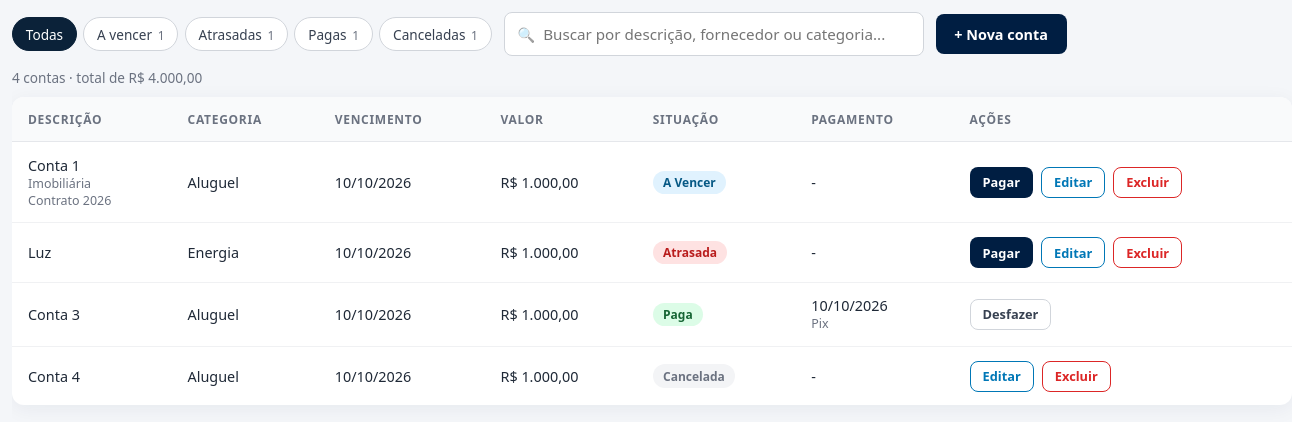
Test: contas a pagar › lista, filtra e busca
Expected: the text "Imobiliária" is shown, [28, 175, 91, 192]
Expected: the text "4 contas · total de R$ 4.000,00" is shown, [12, 68, 202, 87]
Click the button "Atrasadas1". click: [236, 34]
box: [185, 17, 288, 51]
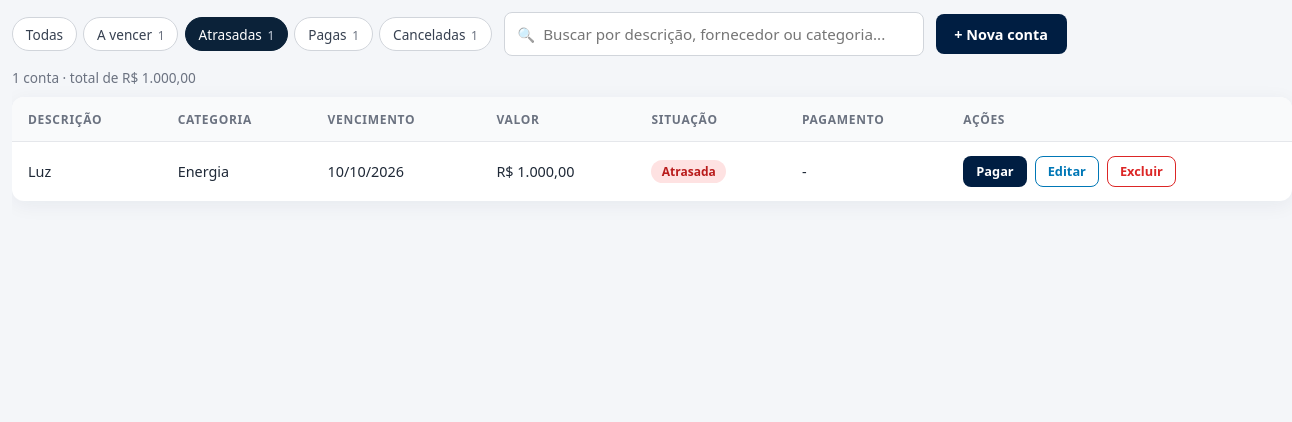
Expected: the text "Luz" is shown, [12, 142, 162, 200]
Expected: the text "1 conta · total de R$ 1.000,00" is shown, [12, 68, 196, 87]
Click the button "Todas". click: [44, 34]
box: [12, 17, 77, 51]
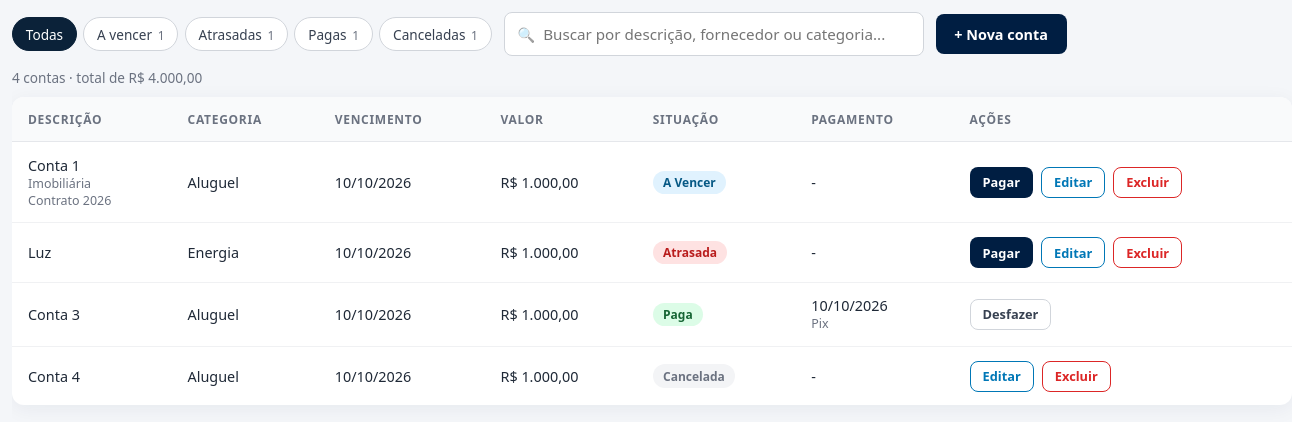
Type "imobili" into the field with placeholder "Buscar por descrição, fornecedor ou categoria...". click: [714, 34]
box: [504, 12, 924, 56]
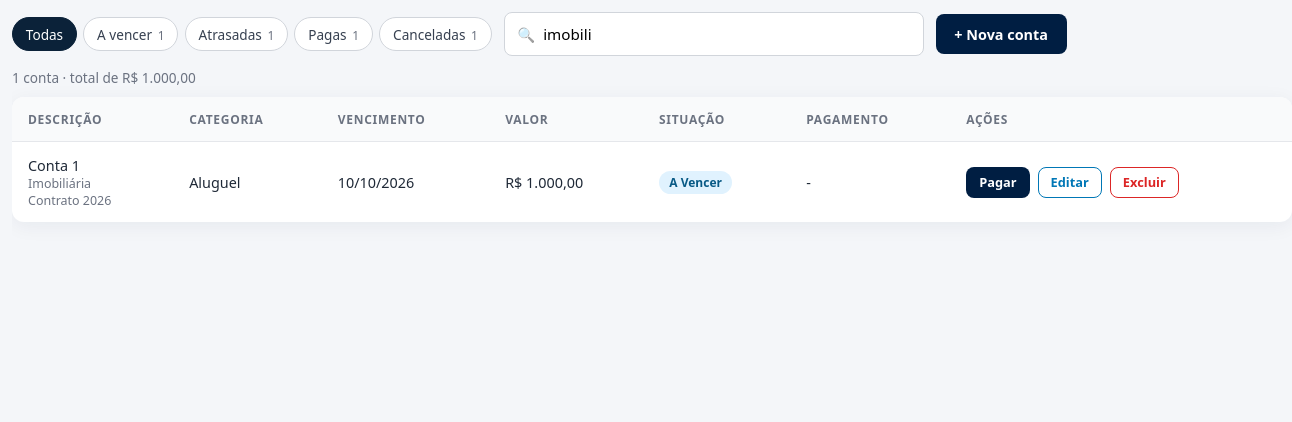
Replace the text in the field with placeholder "Buscar por descrição, fornecedor ou categoria..." with "nada". click: [714, 34]
box: [504, 12, 924, 56]
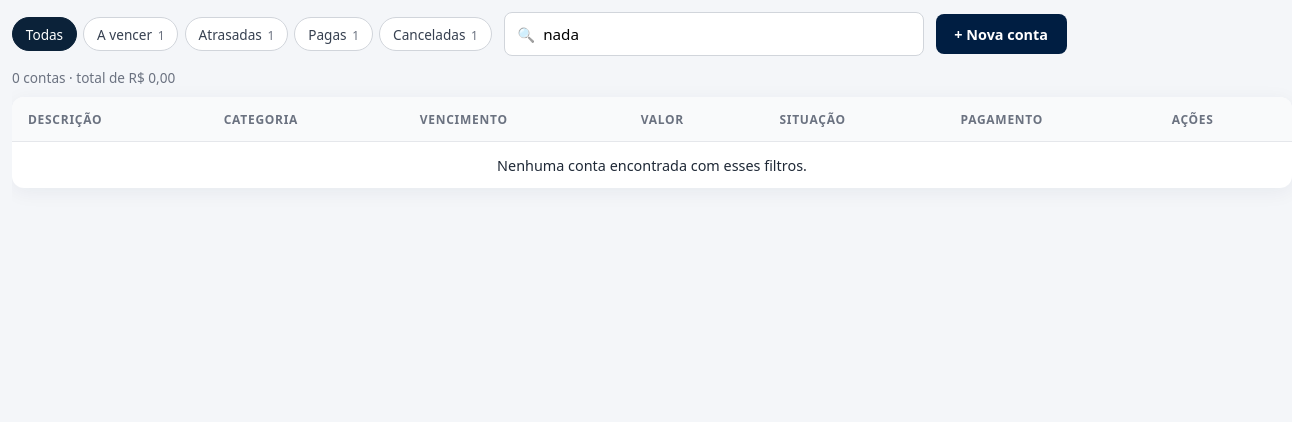
Expected: the text "Nenhuma conta encontrada com esses filtros." is shown, [12, 142, 1291, 188]
